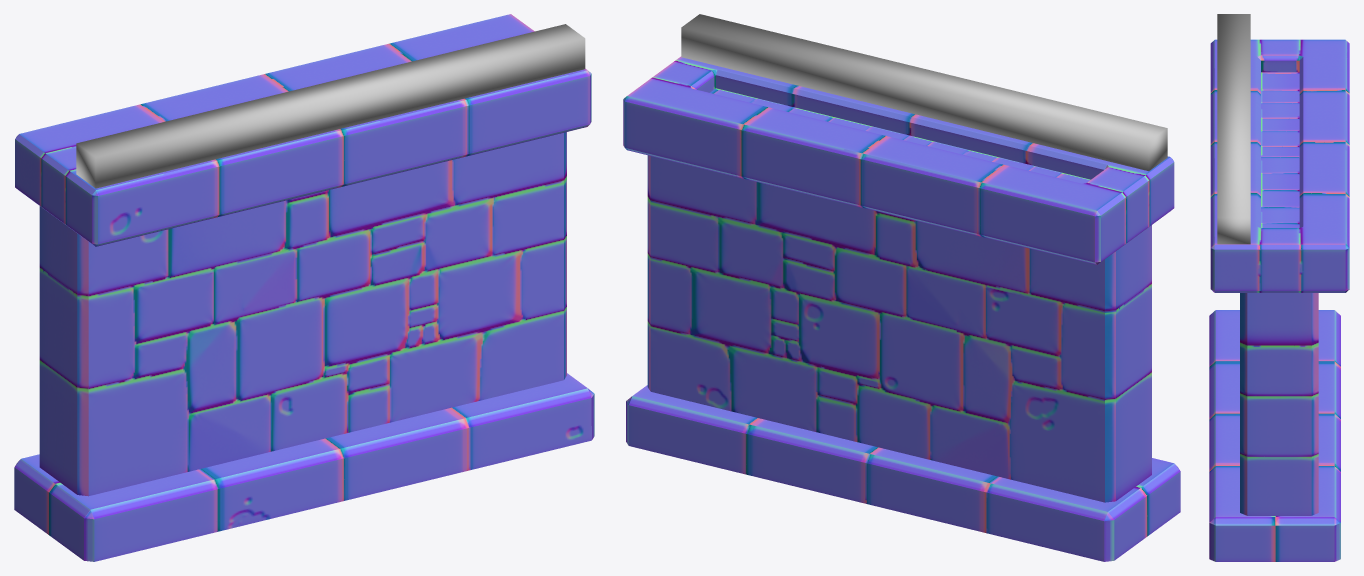
File: wall_segment.FBX
The picture shows the model from 3 angles, left to right: view 1: azimuth 30°, elevation 25°; view 2: azimuth 150°, elevation 25°; view 3: azimuth 270°, elevation 25°; orthographic projection. The views are drawn at different scales.
Parts seen in each view (by area): view 1: wall_segment; view 2: wall_segment; view 3: wall_segment.
Boxes of the visible parts, box(x1,y1,x2,y2) form: wall_segment: box(14, 14, 594, 561); wall_segment: box(623, 14, 1180, 561); wall_segment: box(1209, 14, 1349, 561).
Bounding box in the file's own units: 7.82 × 5.85 × 2.18.
